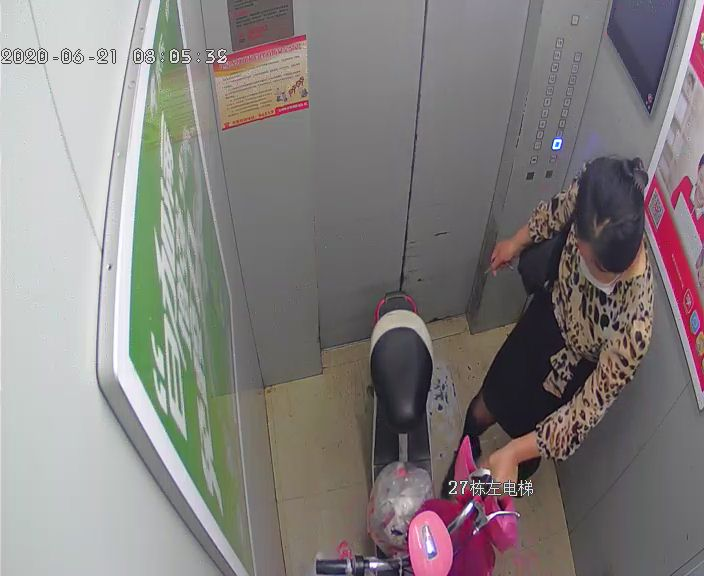Electric-bicycle: (318, 289, 518, 576)
